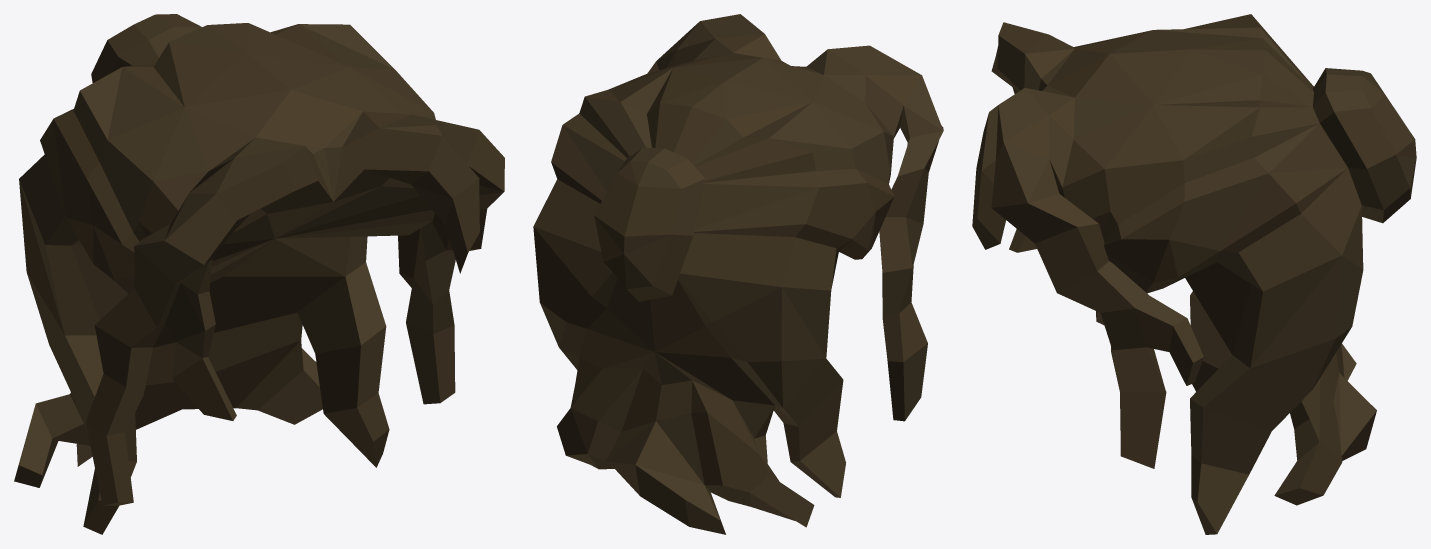
File: Chr_Hair_29_Static.fbx
The picture shows the model from 3 angles, left to right: view 1: azimuth 30°, elevation 25°; view 2: azimuth 150°, elevation 25°; view 3: azimuth 270°, elevation 25°; orthographic projection. The views are drawn at different scales.
Visible parts, largest first — view 1: Chr_Hair_29_Static; view 2: Chr_Hair_29_Static; view 3: Chr_Hair_29_Static.
Part boxes in pixels (x1,y1,x2,y2): Chr_Hair_29_Static: (14, 14, 504, 534); Chr_Hair_29_Static: (533, 14, 943, 534); Chr_Hair_29_Static: (972, 14, 1416, 534).
Bounding box in the file's own units: 0.2926 × 0.3404 × 0.3231.
